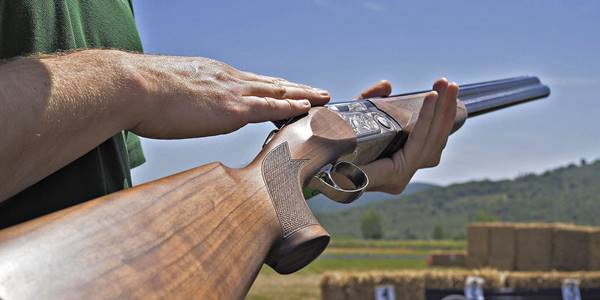Gun: (300, 72, 555, 200)
